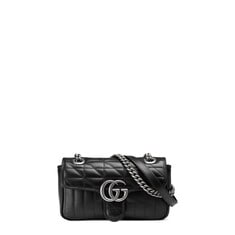Gucci: (59, 151, 176, 221), (93, 179, 138, 203)
